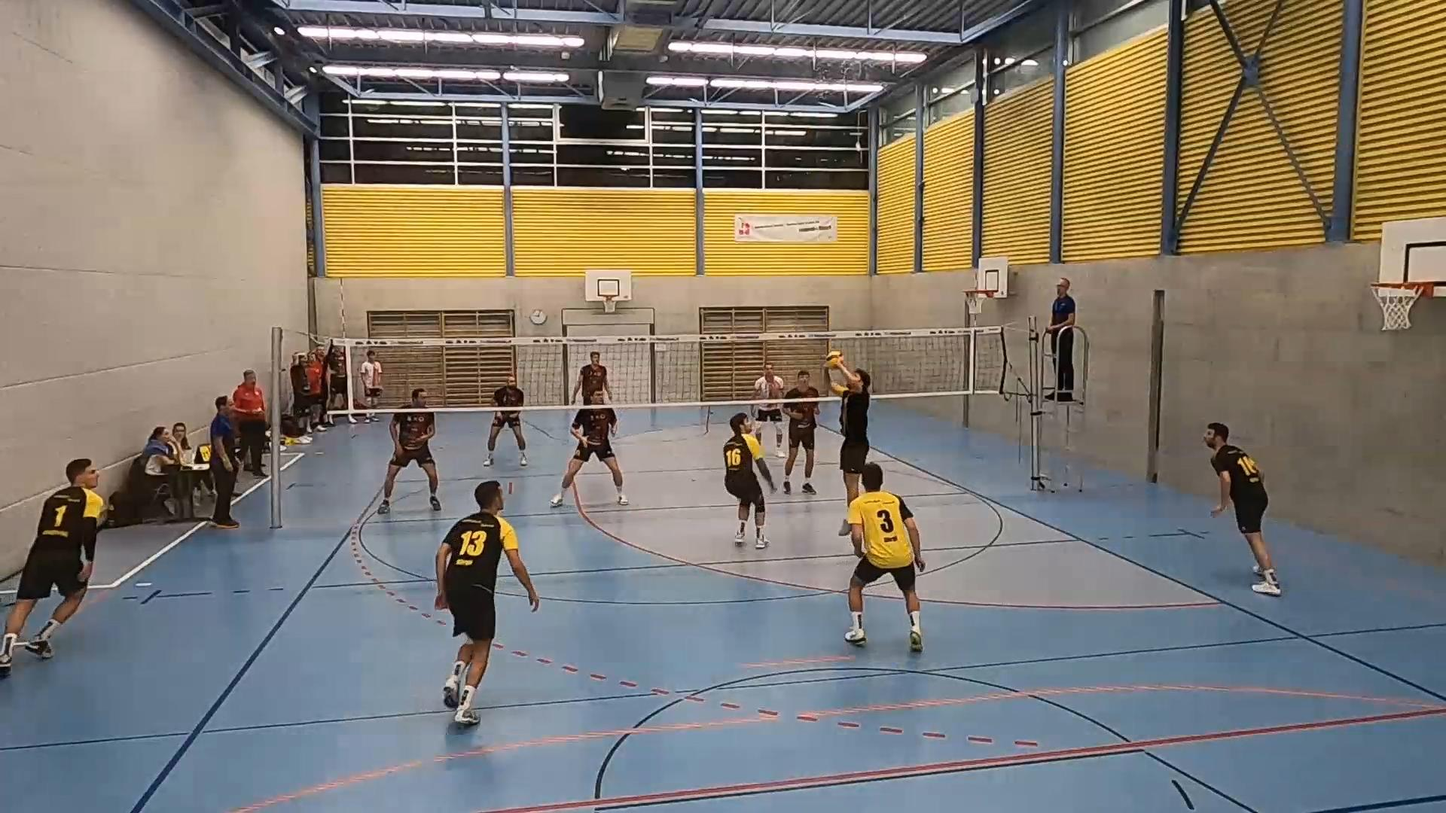Player: (435, 480, 539, 725), (0, 458, 104, 677), (845, 463, 924, 651), (1204, 422, 1281, 596), (551, 406, 627, 507), (723, 413, 775, 549), (377, 411, 441, 513), (783, 370, 819, 494), (754, 363, 785, 458), (484, 409, 527, 466), (569, 351, 610, 404)
Set: (833, 360, 883, 511)
ball: (822, 353, 843, 367)
